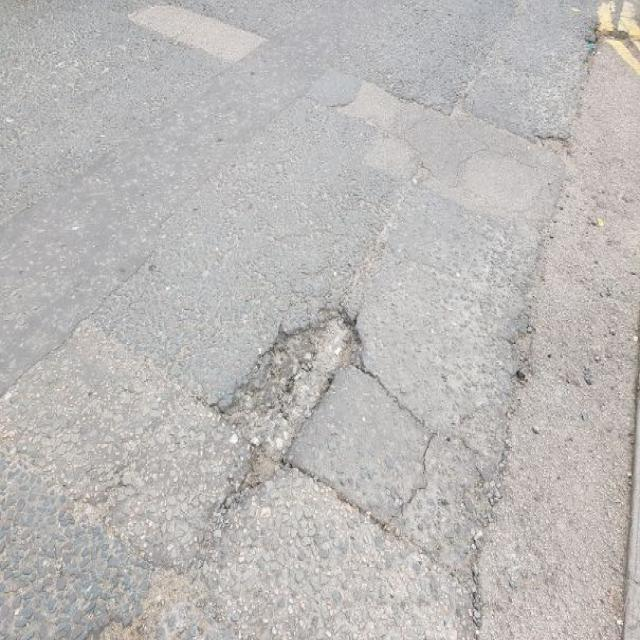Pothole: (204, 298, 366, 497)
